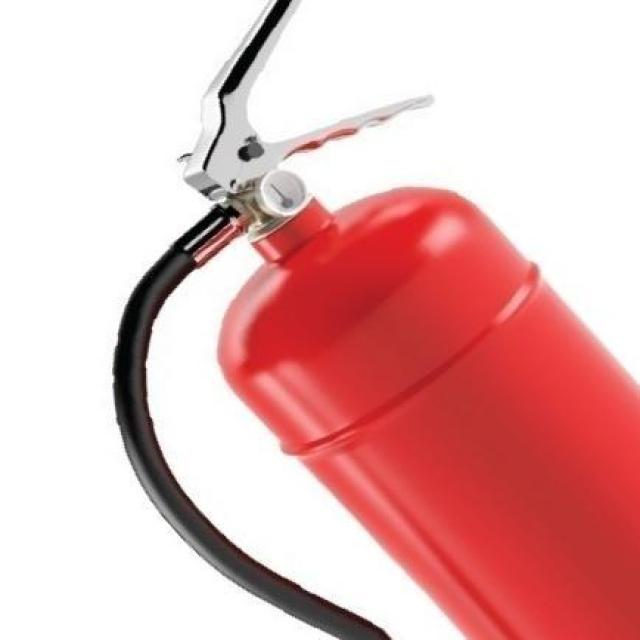fire_extinguisher: (99, 0, 638, 639)
